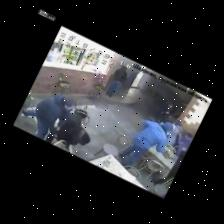person: (119, 120, 172, 165), (23, 94, 75, 139), (56, 113, 90, 147), (106, 66, 126, 98), (167, 121, 182, 146)
